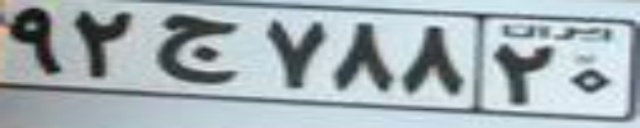0: (565, 67, 614, 95)
2: (75, 8, 132, 78), (491, 42, 555, 104)
7: (262, 20, 323, 88)
8: (399, 26, 467, 94), (335, 22, 393, 92)
9: (12, 5, 62, 76)
jim: (158, 12, 237, 85)
